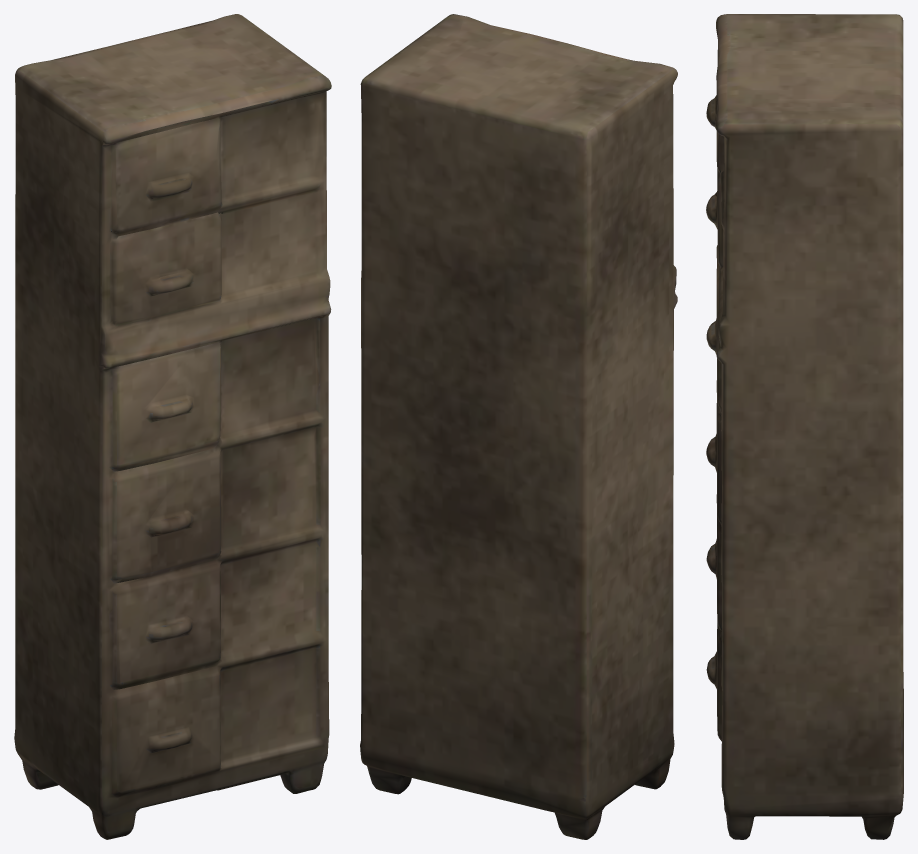
The model's file is rustic-wood-filing-cabinet-v002.glb.
3 views of the same model, side by side, from view 1: azimuth 30°, elevation 25°; view 2: azimuth 150°, elevation 25°; view 3: azimuth 270°, elevation 25° (orthographic).
Parts seen in each view (by area): view 1: rustic-wood-filing-cabinet; view 2: rustic-wood-filing-cabinet; view 3: rustic-wood-filing-cabinet.
Boxes of the visible parts, x1,y1,x2,y2 form: rustic-wood-filing-cabinet: (14,14,331,839); rustic-wood-filing-cabinet: (360,14,677,839); rustic-wood-filing-cabinet: (706,14,903,839).
Bounding box in the file's own units: 0.4581 × 1.37 × 0.3395.
Materials: 1 (1 with a texture image).
